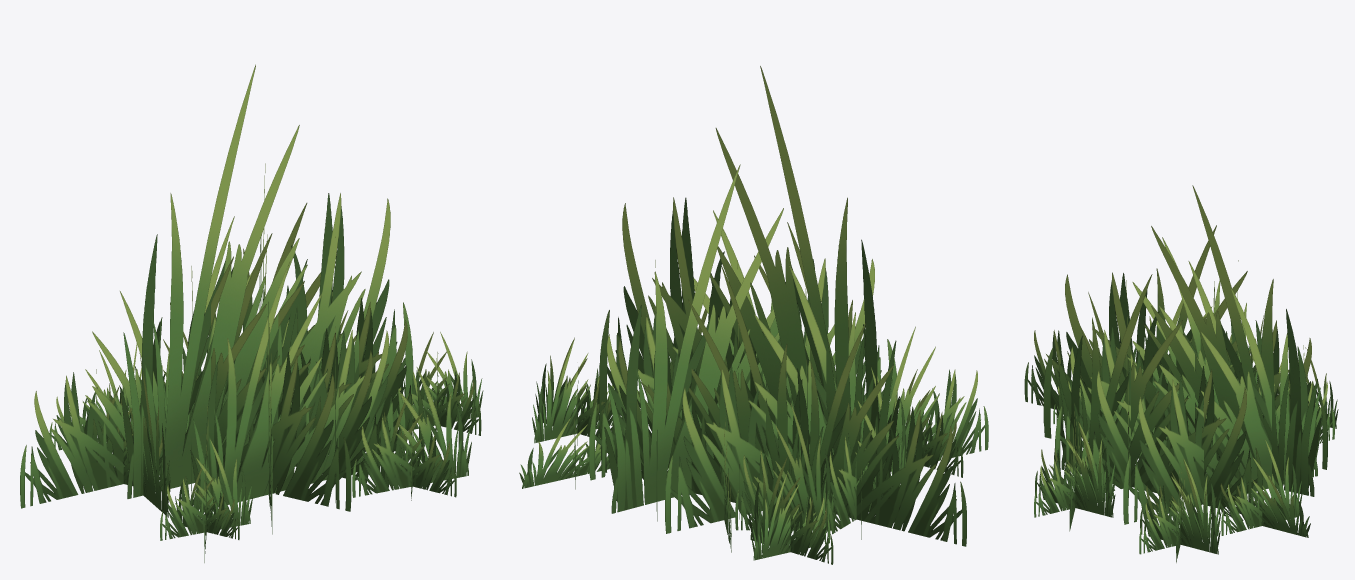
Rendered from model_grass_01.fbx.
3 views of the same model, side by side, from view 1: azimuth 30°, elevation 25°; view 2: azimuth 150°, elevation 25°; view 3: azimuth 270°, elevation 25° (orthographic). The views are drawn at different scales.
Parts seen in each view (by area): view 1: grass_01_geo; view 2: grass_01_geo; view 3: grass_01_geo.
Boxes of the visible parts, <box> form: grass_01_geo: <box>20,64,483,562</box>; grass_01_geo: <box>519,66,988,564</box>; grass_01_geo: <box>1024,185,1338,562</box>.
Bounding box in the file's own units: 14.42 × 12.63 × 9.55.
